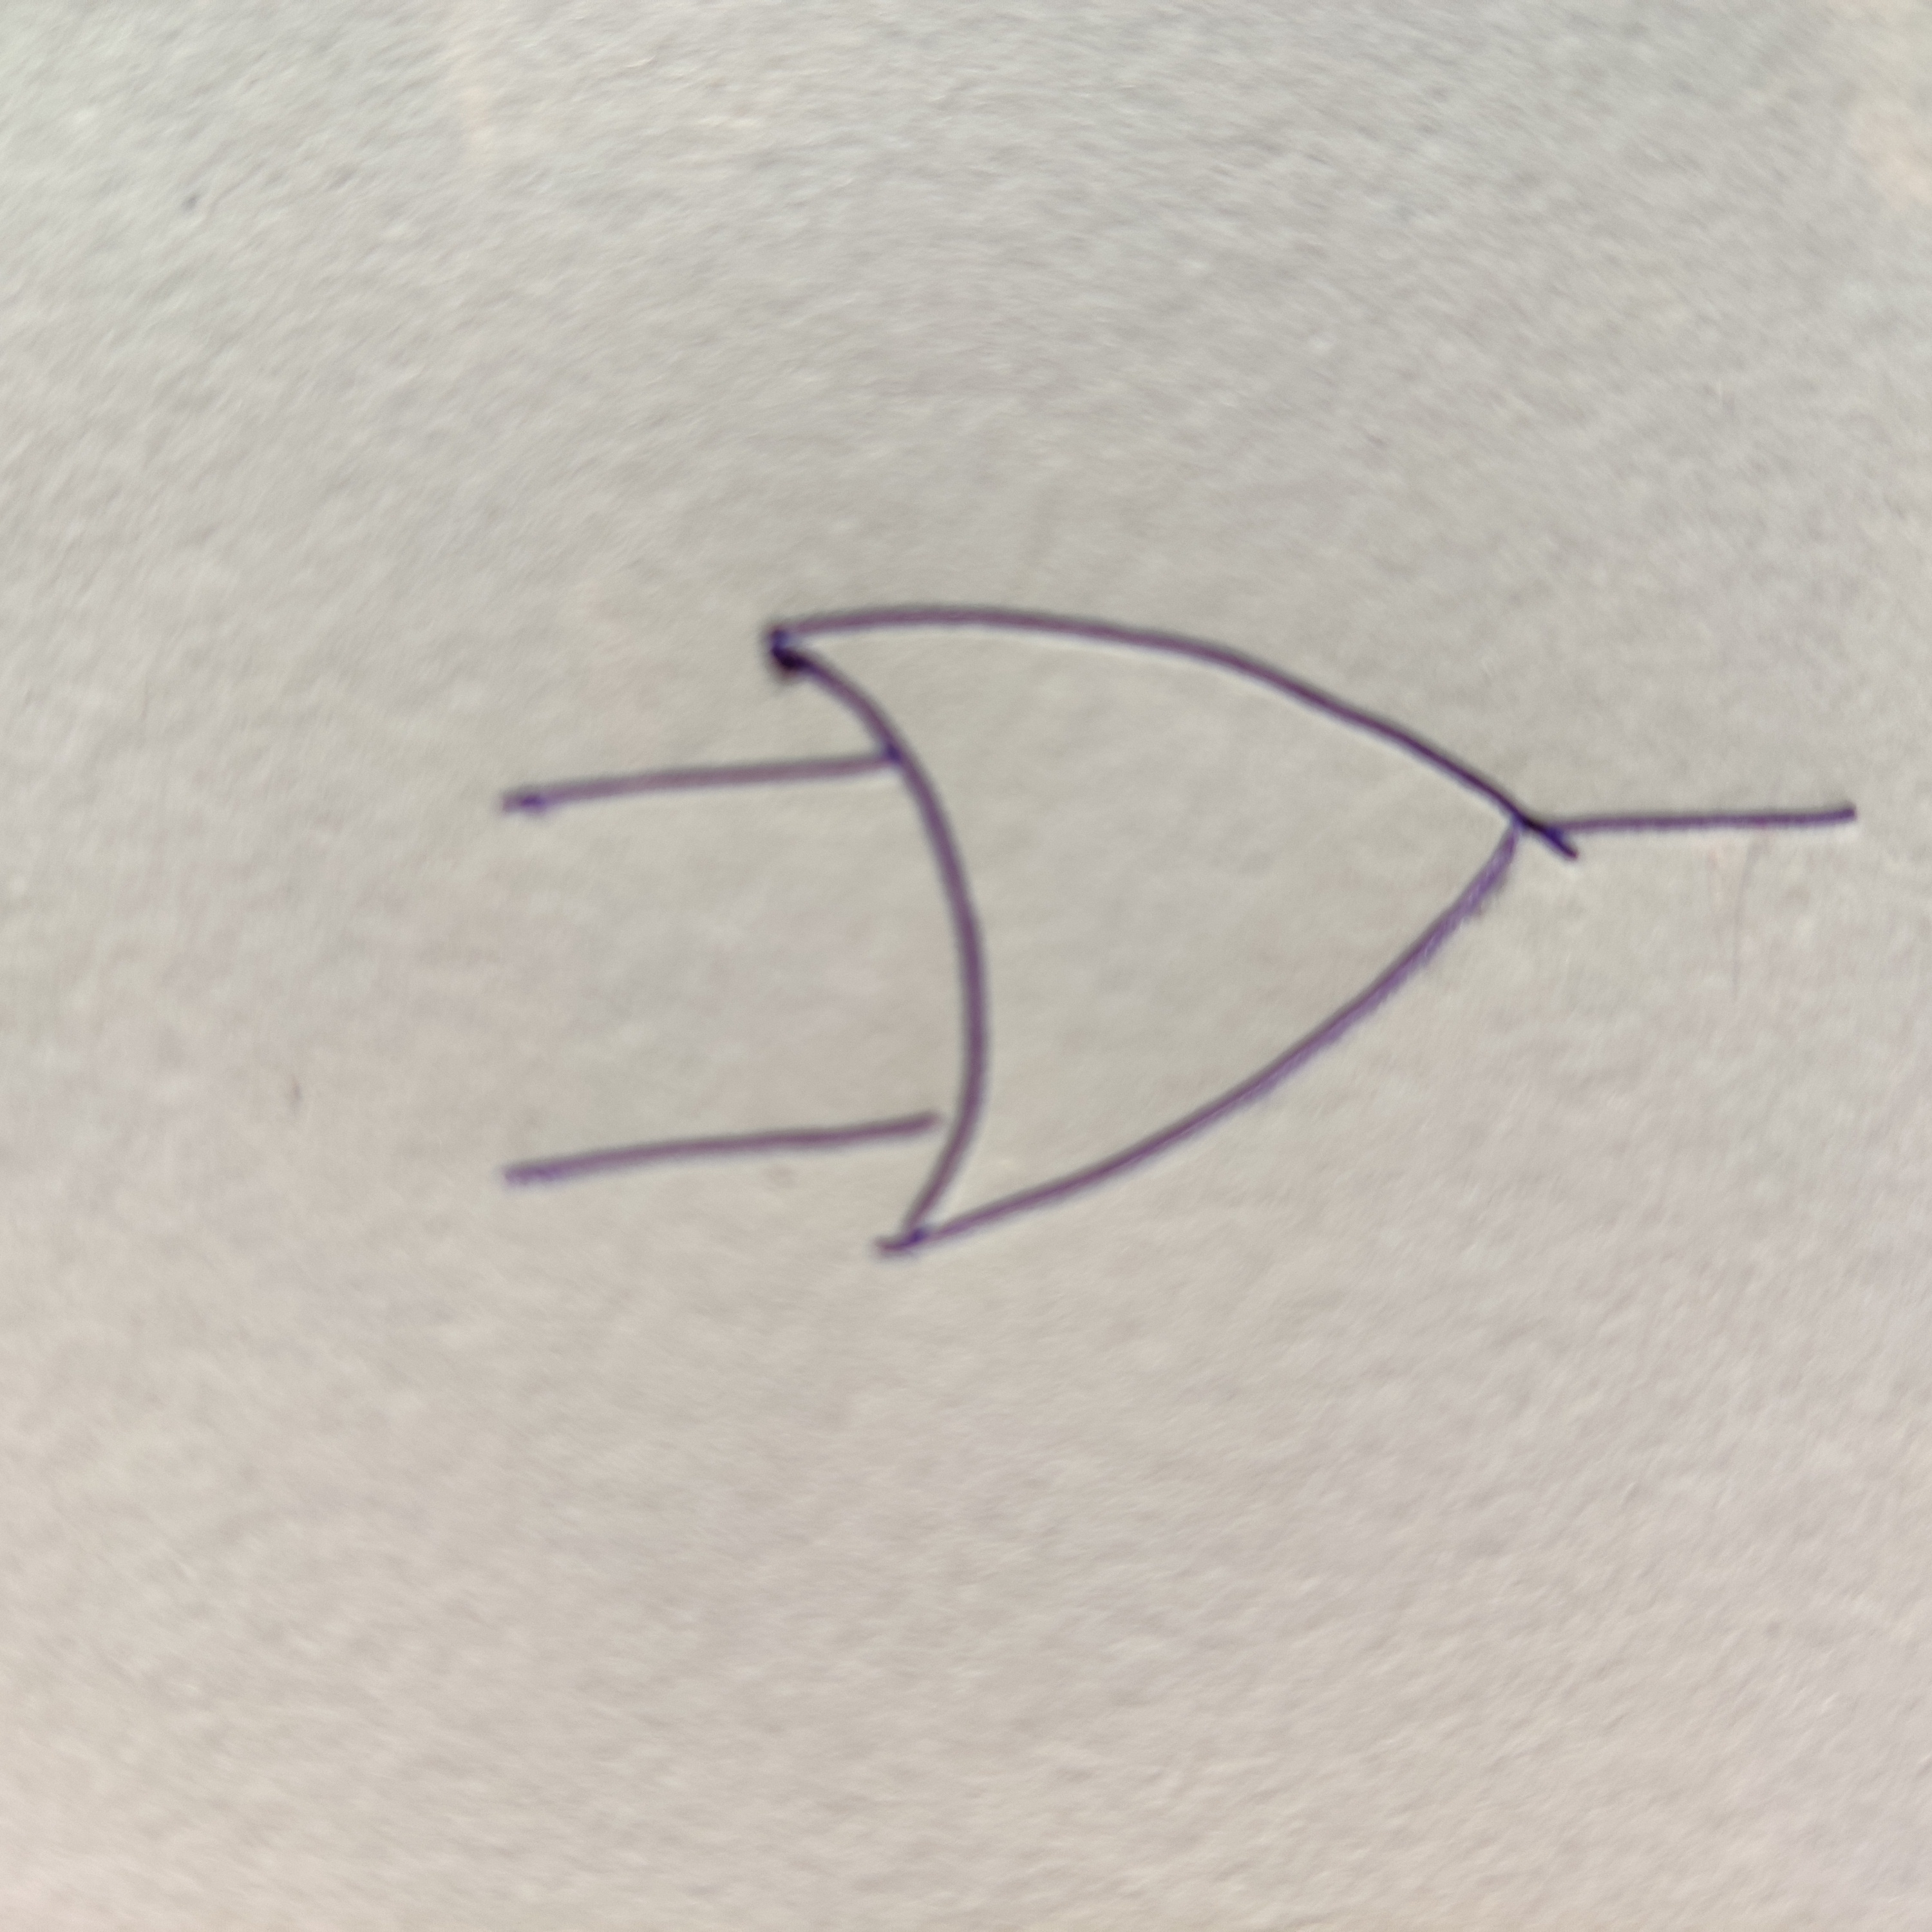or: (768, 607, 1529, 1242)
